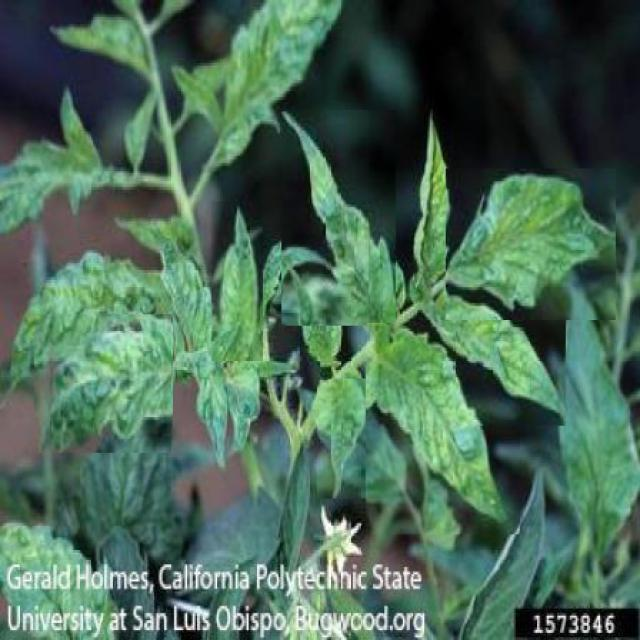Mosaic Virus: (366, 323, 520, 534), (446, 168, 616, 320), (282, 110, 397, 326), (417, 272, 566, 427), (34, 314, 173, 453), (212, 201, 262, 360), (318, 380, 368, 500)
